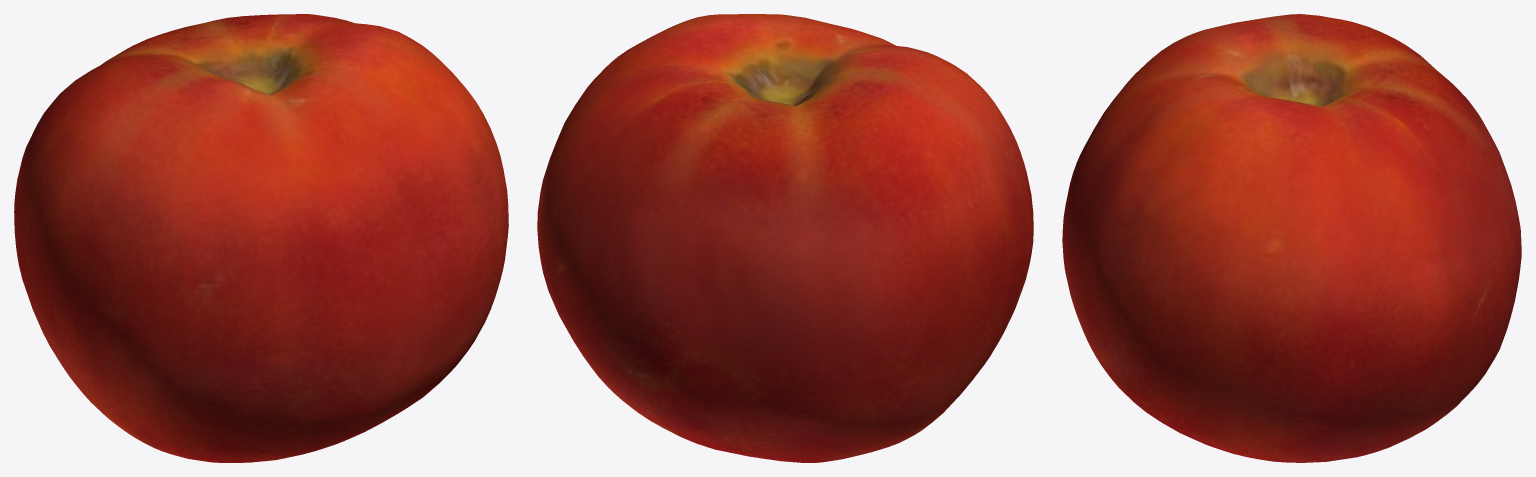
The model's file is tomato.glb.
3 views of the same model, side by side, from view 1: azimuth 30°, elevation 25°; view 2: azimuth 150°, elevation 25°; view 3: azimuth 270°, elevation 25° (orthographic). The views are drawn at different scales.
Parts seen in each view (by area): view 1: tomato; view 2: tomato; view 3: tomato.
Part boxes in pixels (x1,y1,x2,y2): tomato: [14, 14, 508, 462]; tomato: [537, 14, 1033, 462]; tomato: [1062, 14, 1521, 462].
Size of the model in its own units: 0.065 by 0.0568 by 0.0621.
Materials: 1 (1 with a texture image).
